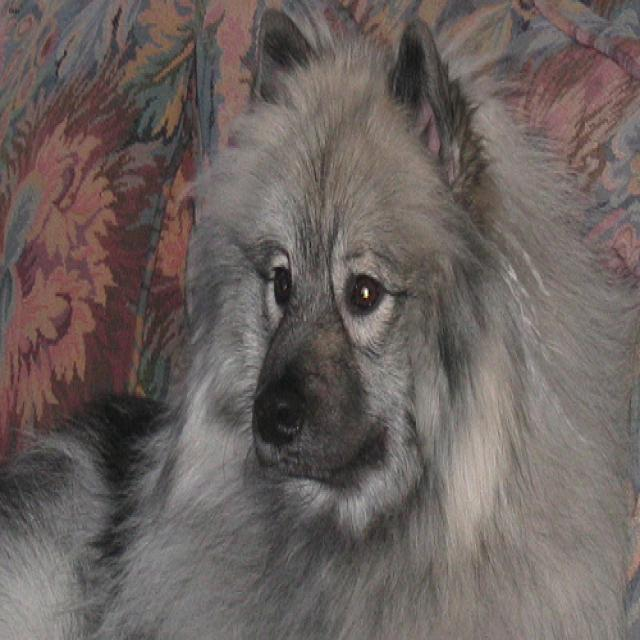dog-keeshond: (1, 2, 637, 636)
